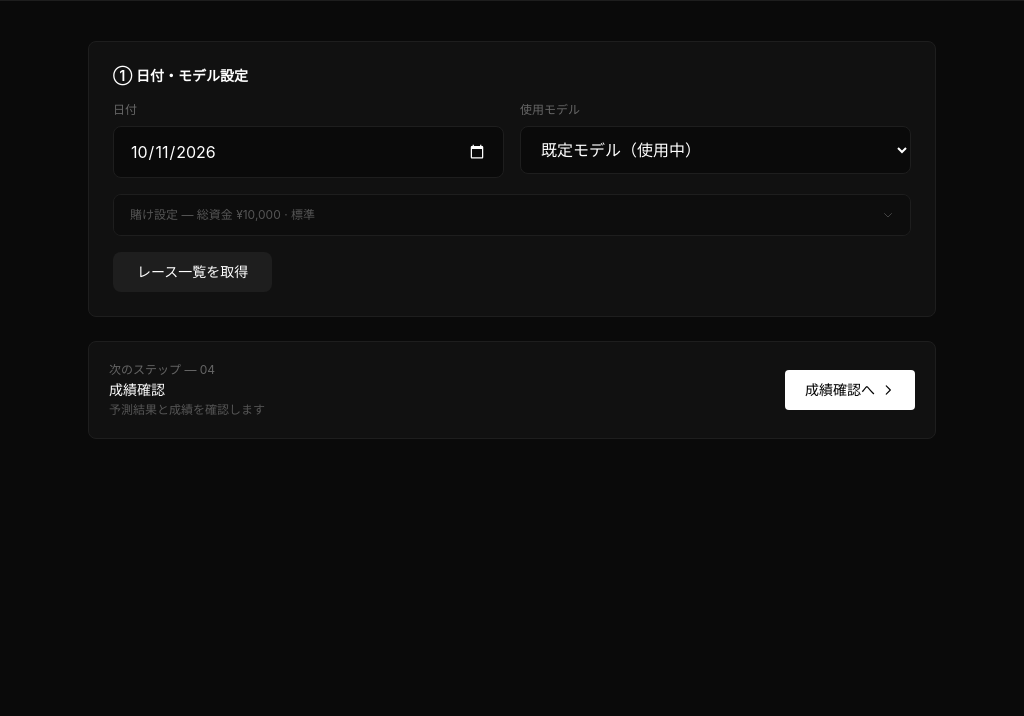
Test: batch prediction EV freshness only › hides expired EV while preserving calibrated win probabilities and scores (buy)
This screenshot has width=1024, height=716.
Click the button "レース一覧を取得". click: click(193, 272)
box: [113,252,272,292]
(page scrolled)
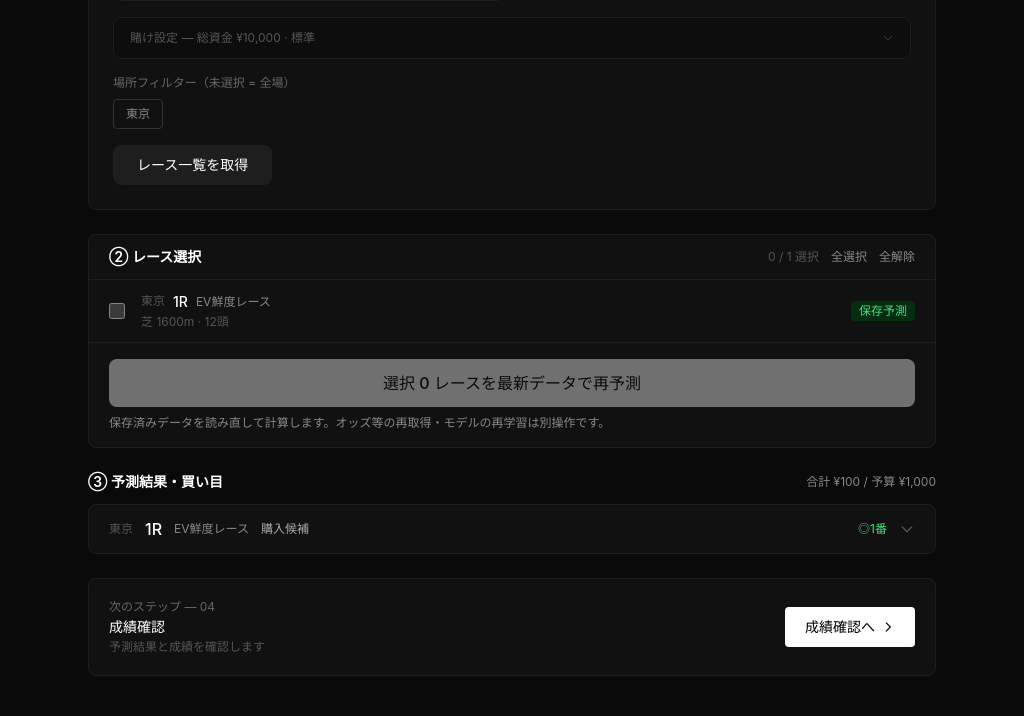
Click the button "東京 1R EV鮮度レース 購入候補 ◎1番". click: click(211, 528)
box: [89,505,935,553]
Wait 2000 ms
(page scrolled)
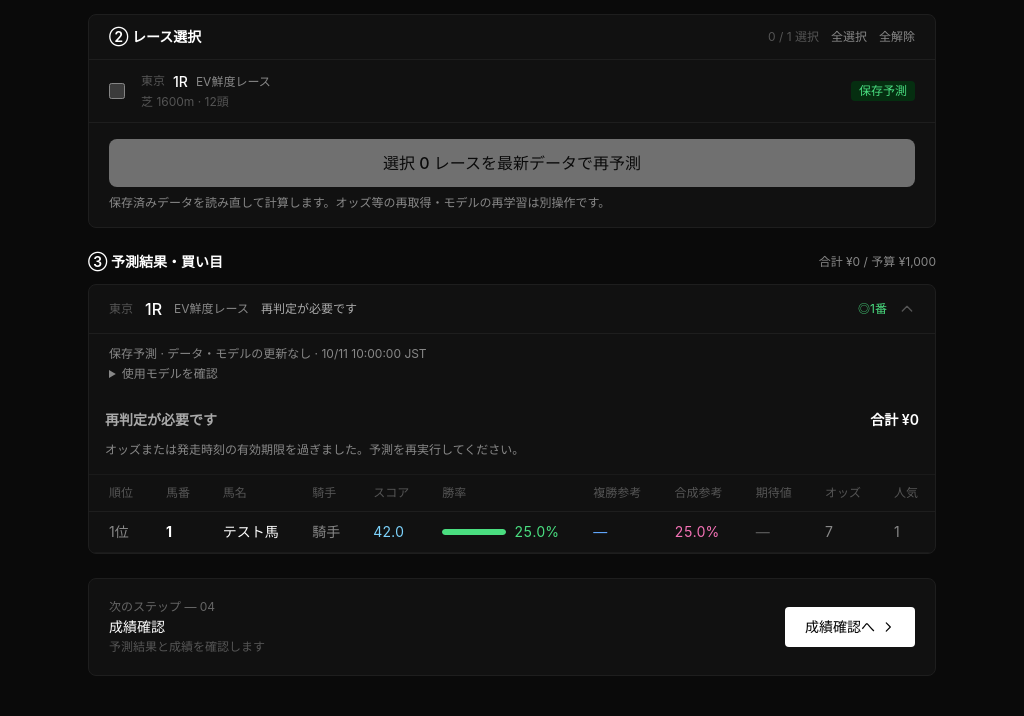
Result: the 2nd text "1.75" is shown at [740,512,809,552]
Result: the 2nd text "1.75" reads "—" at [756,523,770,540]
Result: the column heading "勝率" is shown at [426,475,577,512]
